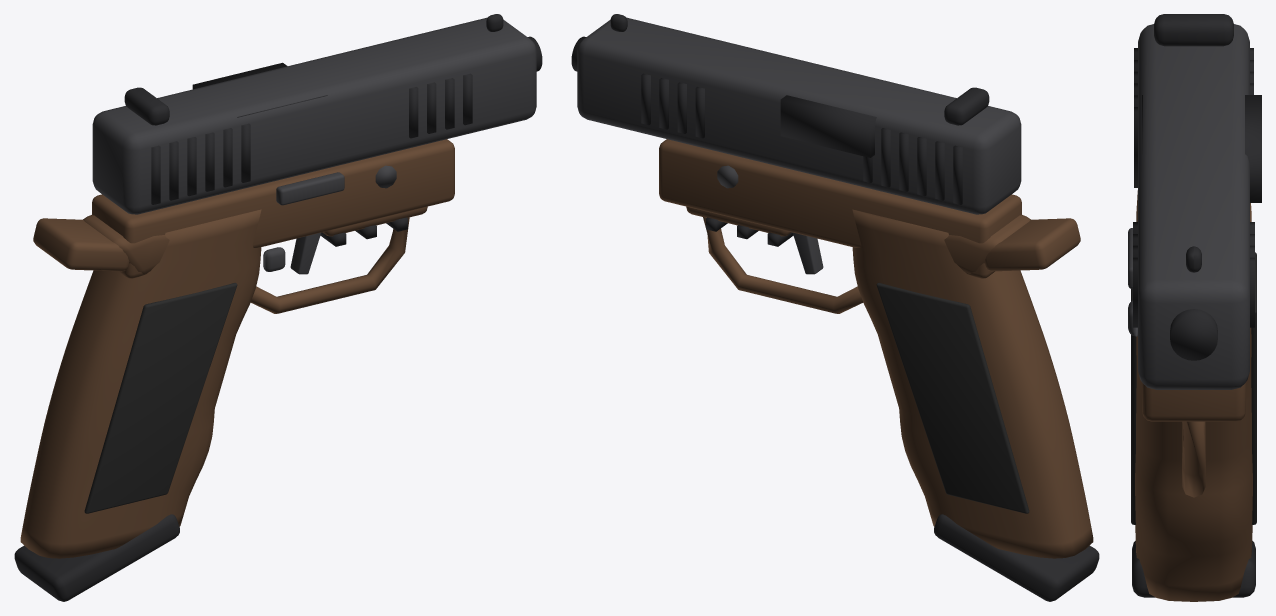
The model's file is SM_Makarov.glb.
The picture shows the model from 3 angles, left to right: view 1: azimuth 30°, elevation 25°; view 2: azimuth 150°, elevation 25°; view 3: azimuth 270°, elevation 25°; orthographic projection. The views are drawn at different scales.
Visible parts, largest first — view 1: SM_Makarov; view 2: SM_Makarov; view 3: SM_Makarov.
Boxes of the visible parts, box(x1,y1,x2,y2) form: SM_Makarov: box(14, 14, 542, 601); SM_Makarov: box(571, 14, 1099, 601); SM_Makarov: box(1128, 14, 1261, 601).
Bounding box in the file's own units: 0.1961 × 0.1726 × 0.0335.
